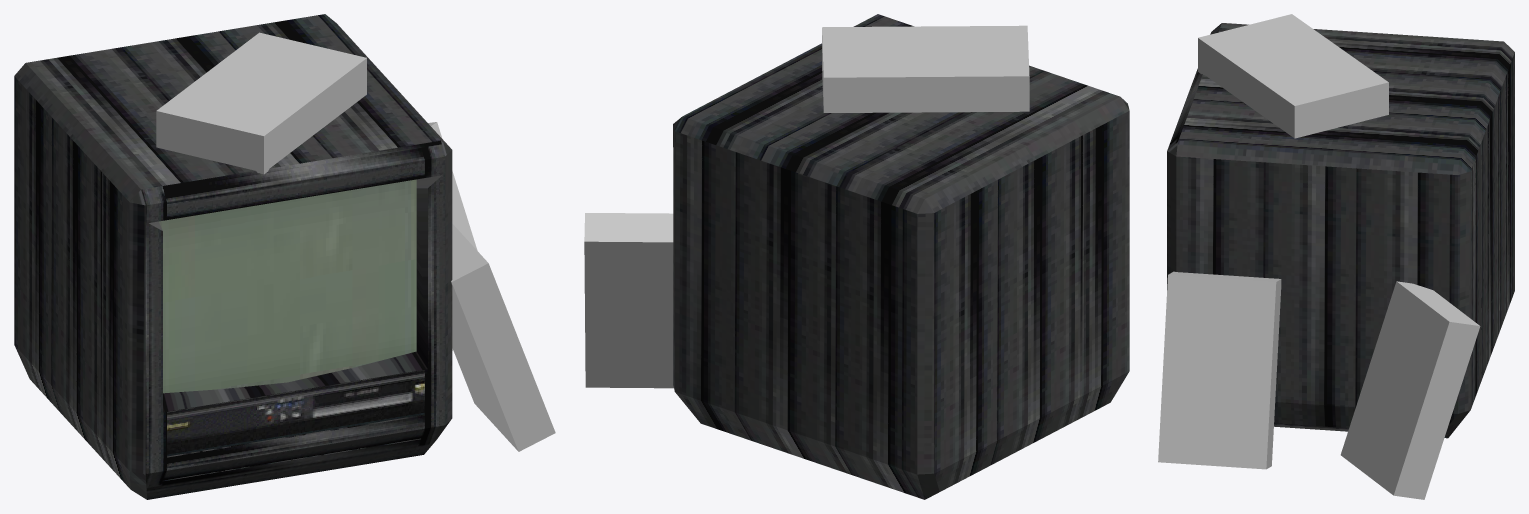
File: TEST_SM_TVHorrorScene.fbx
The picture shows the model from 3 angles, left to right: view 1: azimuth 30°, elevation 25°; view 2: azimuth 150°, elevation 25°; view 3: azimuth 270°, elevation 25°; orthographic projection. The views are drawn at different scales.
Visible parts, largest first — view 1: Cube.001, VHSTape.002, VHSTape, VHSTape.001; view 2: Cube.001, VHSTape.002, VHSTape.001; view 3: Cube.001, VHSTape, VHSTape.001, VHSTape.002.
Boxes of the visible parts, x1,y1,x2,y2 form: Cube.001: (14,14,452,499); VHSTape.002: (156,32,366,174); VHSTape: (451,224,555,451); VHSTape.001: (428,122,477,350); Cube.001: (673,14,1129,499); VHSTape.002: (822,25,1029,112); VHSTape.001: (584,213,673,388); Cube.001: (1167,23,1514,438); VHSTape: (1158,271,1281,469); VHSTape.001: (1340,281,1480,499); VHSTape.002: (1198,14,1388,138).
Bounding box in the file's own units: 976 × 722 × 730.
